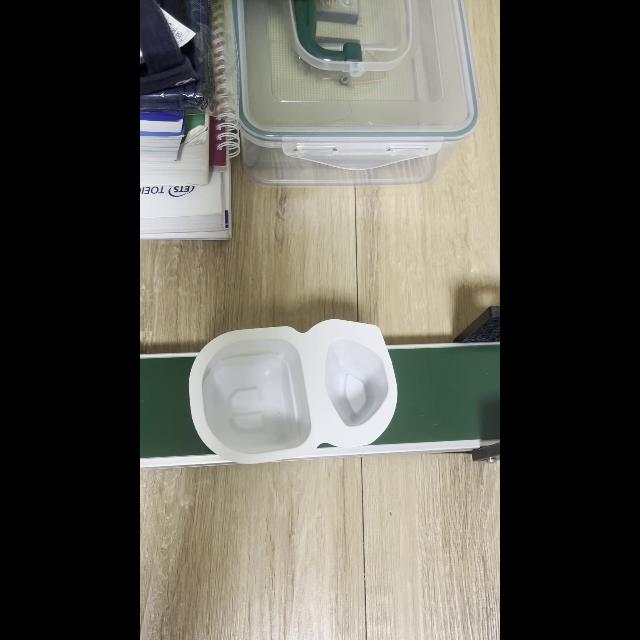clean: (190, 322, 398, 463)
